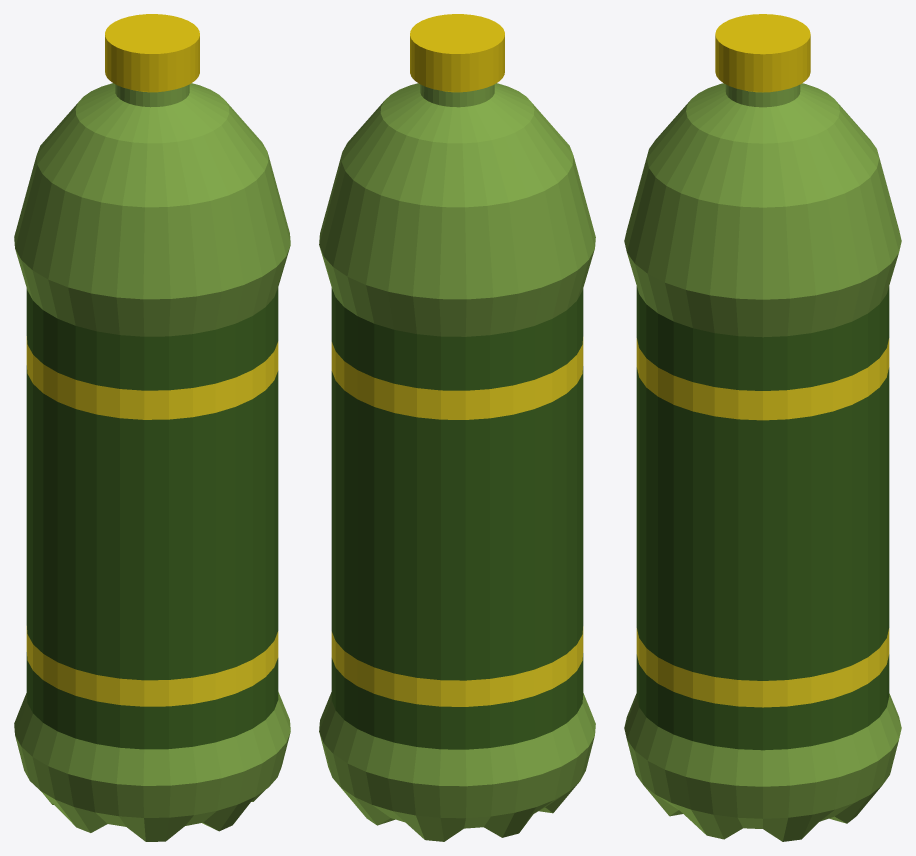
File: Small Sprits Drink.fbx
3 views of the same model, side by side, from view 1: azimuth 30°, elevation 25°; view 2: azimuth 150°, elevation 25°; view 3: azimuth 270°, elevation 25° (orthographic).
Visible parts, largest first — view 1: Small Sprits Drink; view 2: Small Sprits Drink; view 3: Small Sprits Drink.
Part boxes in pixels (bbox=[...]): Small Sprits Drink: bbox=[14, 14, 290, 841]; Small Sprits Drink: bbox=[319, 14, 595, 841]; Small Sprits Drink: bbox=[624, 14, 901, 841].
Bounding box in the file's own units: 14.03 × 42.72 × 14.03.
Materials: 1 (1 with a texture image).
